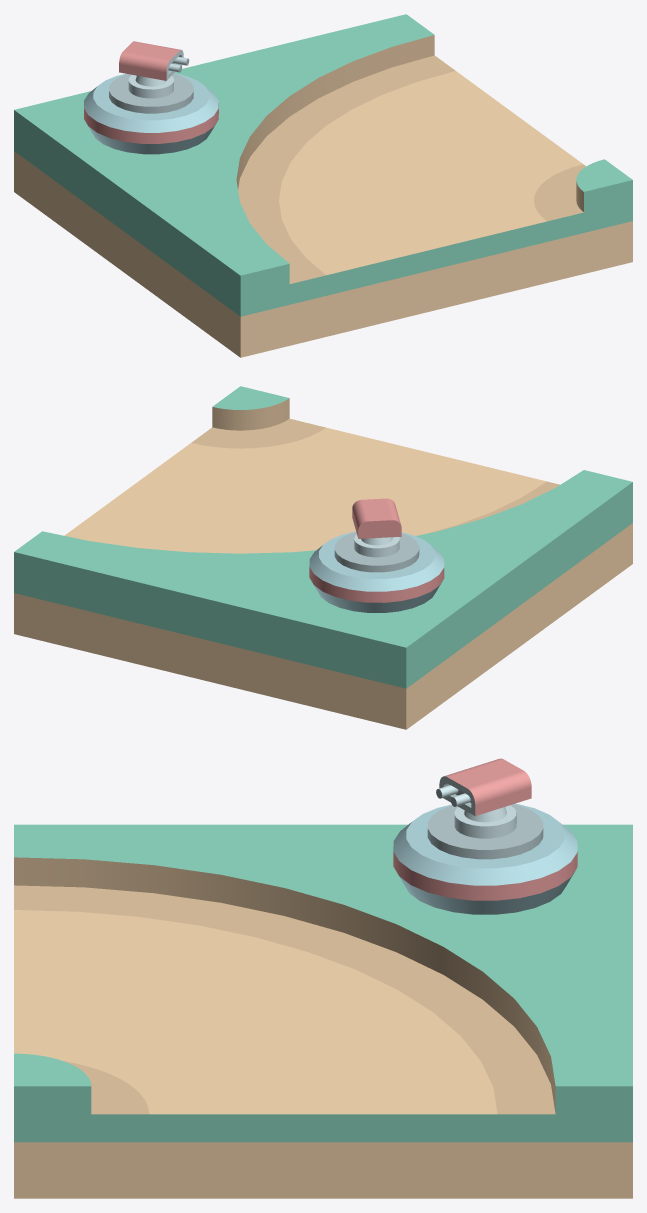
File: tile_tower.fbx
3 views of the same model, one above another, from view 1: azimuth 30°, elevation 25°; view 2: azimuth 150°, elevation 25°; view 3: azimuth 270°, elevation 25° (orthographic). The views are drawn at different scales.
Parts seen in each view (by area): view 1: tile_cornerRound.001; view 2: tile_cornerRound.001; view 3: tile_cornerRound.001.
Part boxes in pixels (left/top/right/bottom): tile_cornerRound.001: left=14, top=14, right=632, bottom=357; tile_cornerRound.001: left=14, top=386, right=632, bottom=729; tile_cornerRound.001: left=14, top=758, right=632, bottom=1198.
Size of the model in its own units: 1000 by 390 by 1000.
